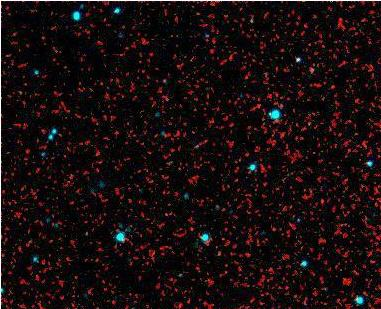star: (306, 184, 336, 214)
